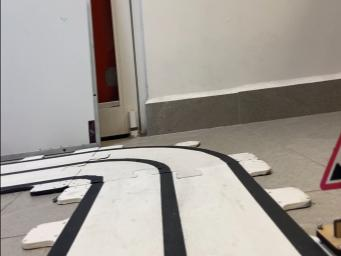street: (0, 146, 328, 256), (0, 146, 328, 256), (0, 146, 328, 256), (0, 146, 328, 256), (0, 146, 328, 256), (0, 146, 328, 256)
